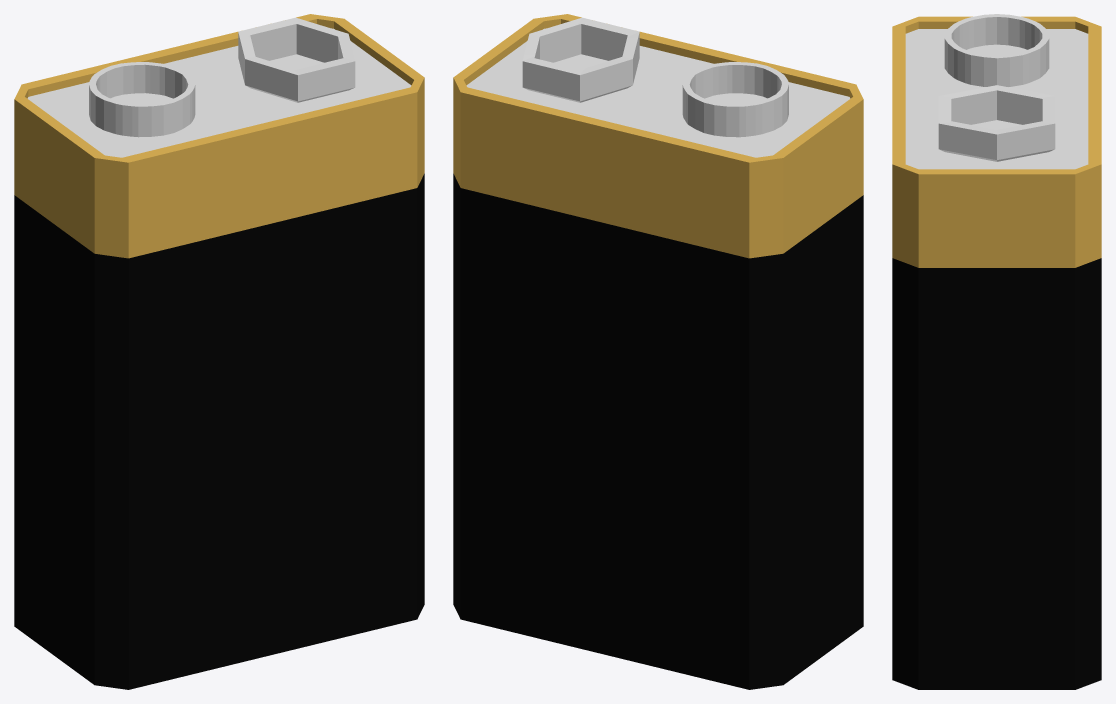
The model's file is 9VBattery.glb.
3 renders of one model, left to right at view 1: azimuth 30°, elevation 25°; view 2: azimuth 150°, elevation 25°; view 3: azimuth 270°, elevation 25°, orthographic. The views are drawn at different scales.
Visible parts, largest first — view 1: 9V Battery, 9V Battery.001, 9V Battery.002; view 2: 9V Battery, 9V Battery.001, 9V Battery.002; view 3: 9V Battery, 9V Battery.001, 9V Battery.002.
Part boxes in pixels (x1,y1,x2,y2): 9V Battery: [14, 14, 424, 689]; 9V Battery.001: [238, 17, 355, 101]; 9V Battery.002: [89, 62, 195, 137]; 9V Battery: [453, 14, 863, 689]; 9V Battery.001: [522, 17, 639, 101]; 9V Battery.002: [682, 62, 788, 137]; 9V Battery: [892, 16, 1101, 689]; 9V Battery.001: [938, 85, 1055, 159]; 9V Battery.002: [944, 14, 1049, 86].
Size of the model in its own units: 0.3269 by 0.5208 by 0.1834.
